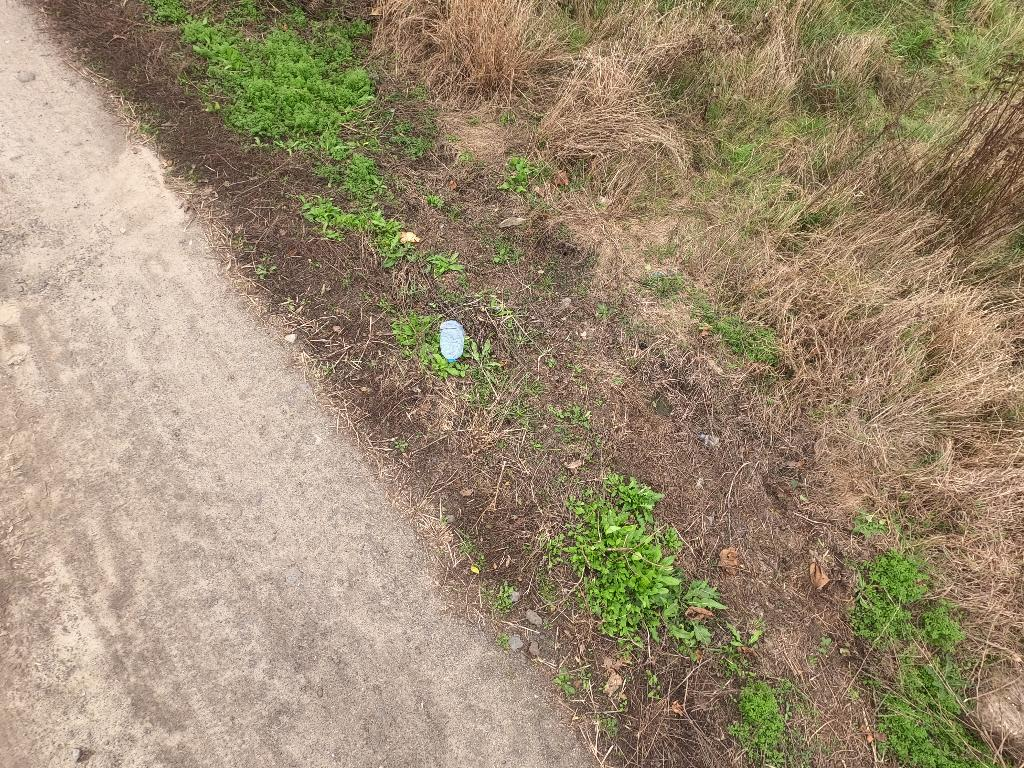garbage: (438, 319, 465, 364)
